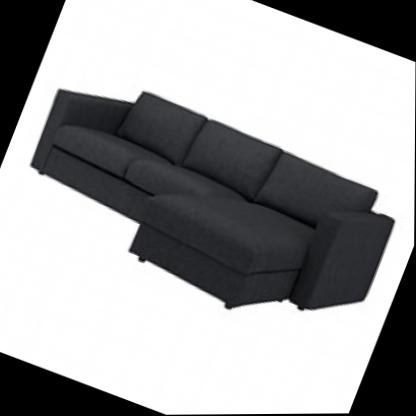Sofa: (0, 32, 416, 376)
